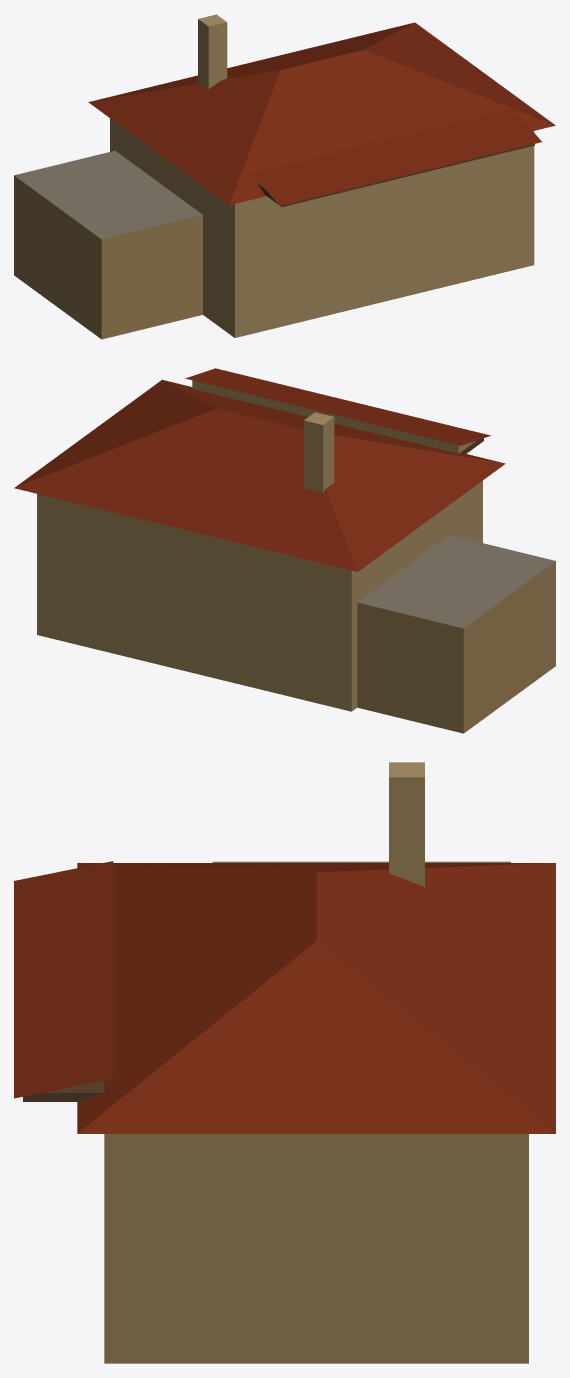
The model's file is cr-hacienda.towns-v1.lod2.glb.
3 renders of one model, top to bottom at view 1: azimuth 30°, elevation 25°; view 2: azimuth 150°, elevation 25°; view 3: azimuth 270°, elevation 25°, orthographic. The views are drawn at different scales.
Visible parts, largest first — view 1: cr-hacienda; view 2: cr-hacienda; view 3: cr-hacienda.
Part boxes in pixels (x1=…): cr-hacienda: x1=14, y1=14, x2=555, y2=339; cr-hacienda: x1=14, y1=368, x2=555, y2=733; cr-hacienda: x1=14, y1=762, x2=555, y2=1363.
Bounding box in the file's own units: 18 × 9.8 × 12.
